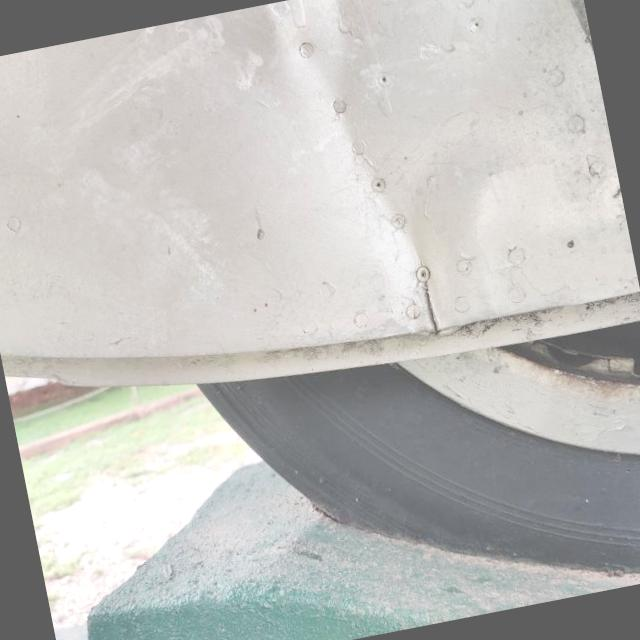crack: (401, 266, 462, 343)
